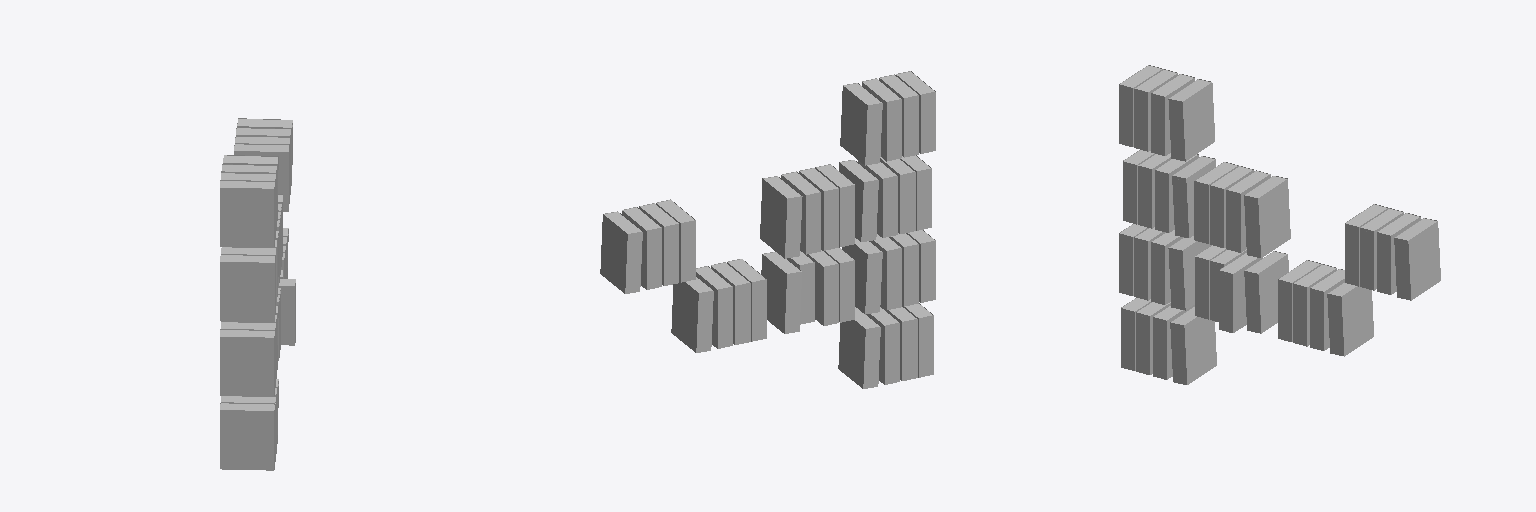
File: books.obj
The picture shows the model from 3 angles: view 1: azimuth 30°, elevation 25°; view 2: azimuth 150°, elevation 25°; view 3: azimuth 270°, elevation 25°; orthographic projection.
Parts seen in each view (by area): view 1: Books; view 2: Books; view 3: Books.
Part boxes in pixels (bbox=[...]): Books: bbox=[220, 118, 295, 470]; Books: bbox=[600, 71, 935, 388]; Books: bbox=[1119, 65, 1440, 384].
Size of the model in its own units: 0.3912 by 0.5198 by 0.5348.